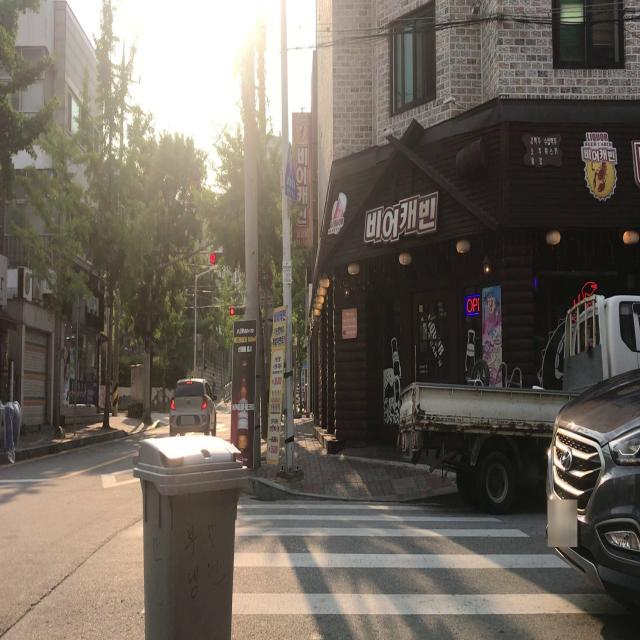횡단보도: (232, 496, 638, 617)
